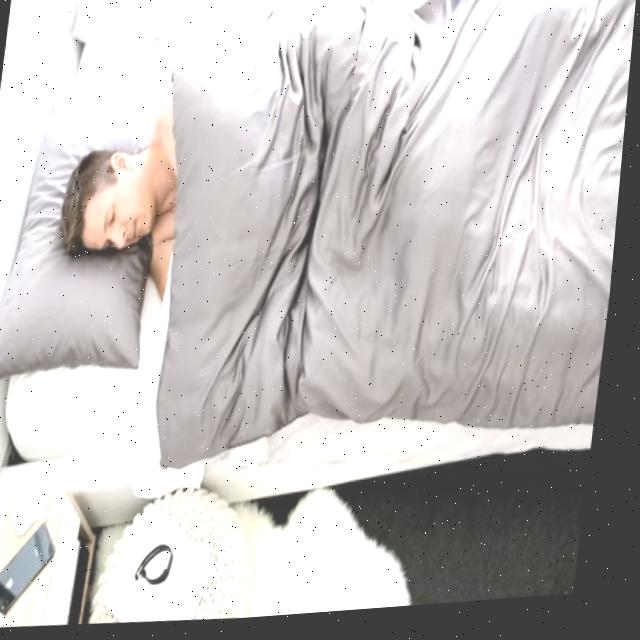sleeping-person: (35, 0, 640, 458)
